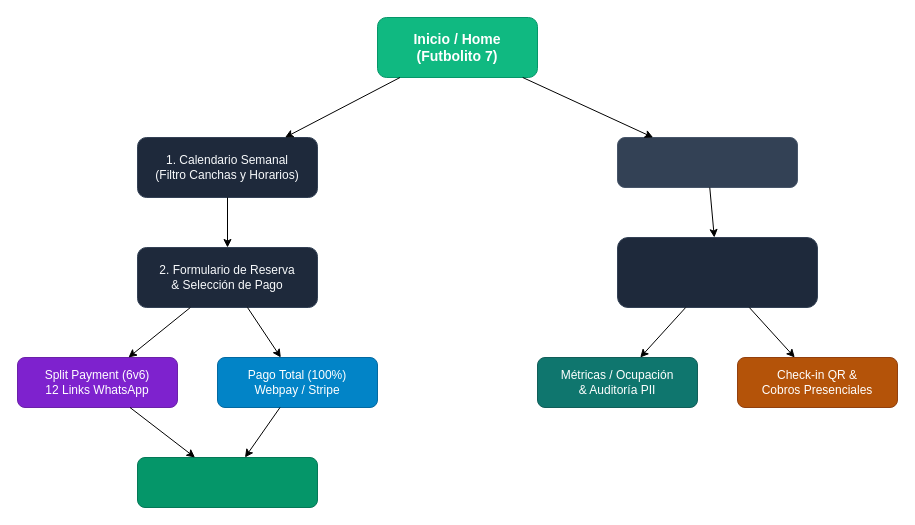
The diagram is 915 pixels wide and 525 high, and some of its shapes have lost their labels. Each missing label, with the box of its shape:
3. Panel de Administración Control de Turnos & Finanzas: (616, 236, 818, 308)
Confirmación & QR Comprobante Digital: (136, 456, 318, 508)
Login Personal / Admin: (616, 136, 798, 188)
